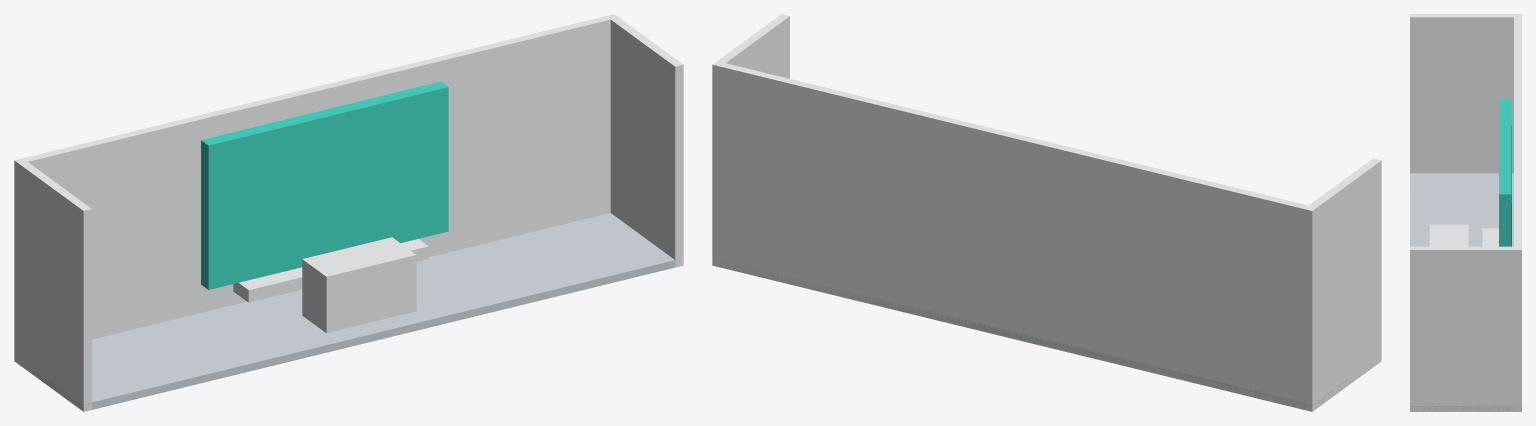
3 views of the same model, side by side, from view 1: azimuth 30°, elevation 25°; view 2: azimuth 150°, elevation 25°; view 3: azimuth 270°, elevation 25° (orthographic). The views are drawn at different scales.
Visible parts, largest first — view 1: Exhibition Booth Concept; view 2: Exhibition Booth Concept; view 3: Exhibition Booth Concept.
Boxes of the visible parts, bbox=[...] form: Exhibition Booth Concept: bbox=[14, 14, 683, 411]; Exhibition Booth Concept: bbox=[712, 14, 1381, 411]; Exhibition Booth Concept: bbox=[1410, 14, 1521, 411].
Size of the model in its own units: 10 by 3.2 by 2.
